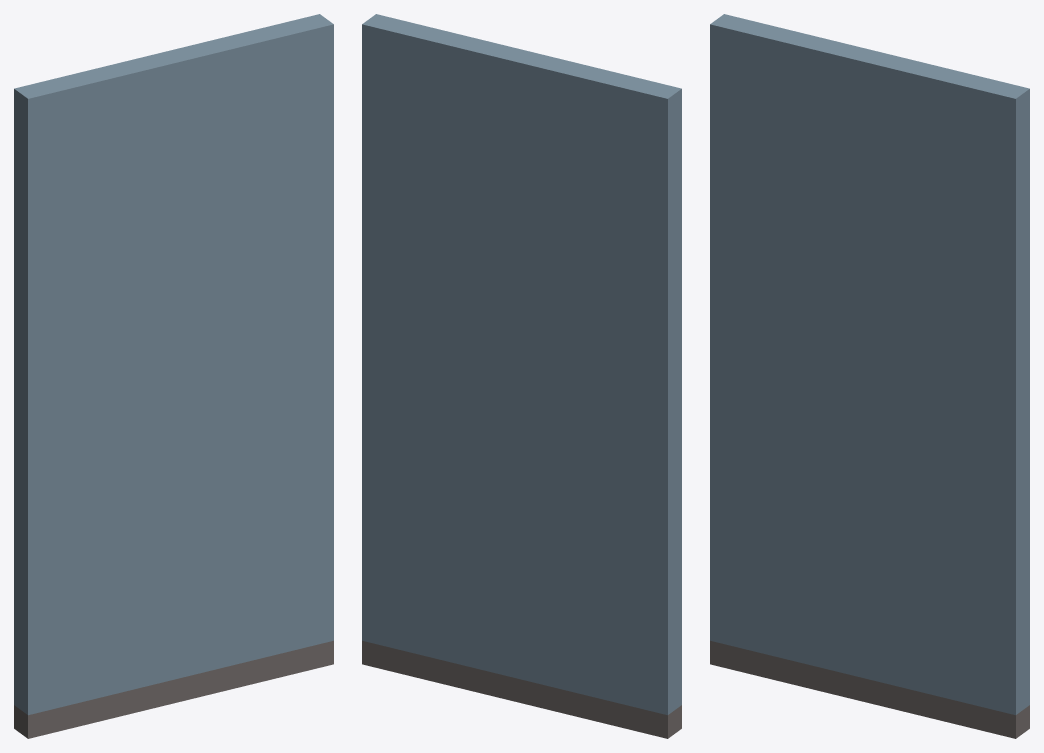
File: wallBlank.fbx
3 renders of one model, left to right at view 1: azimuth 30°, elevation 25°; view 2: azimuth 150°, elevation 25°; view 3: azimuth 330°, elevation 25°, orthographic.
Parts seen in each view (by area): view 1: Wall - Blank; view 2: Wall - Blank; view 3: Wall - Blank.
Part boxes in pixels (x1,y1,x2,y2): Wall - Blank: (14,14,333,738); Wall - Blank: (362,14,681,738); Wall - Blank: (710,14,1029,738).
Bounding box in the file's own units: 200 × 16 × 400.
